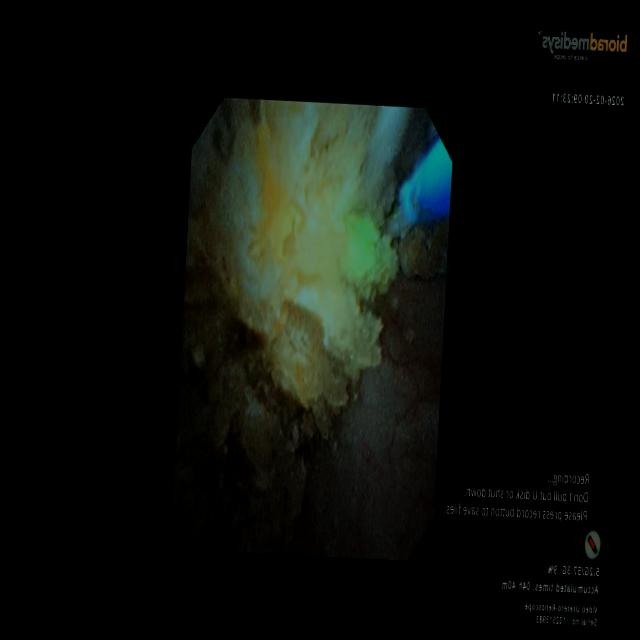laser_dot: (344, 216, 383, 283)
stone-new: (185, 100, 408, 437), (174, 300, 306, 553), (397, 221, 449, 279)
